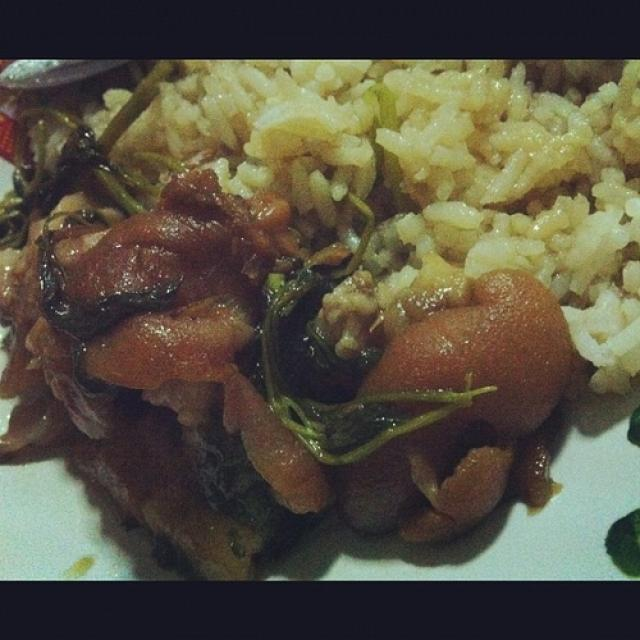猪肉菜式: (18, 69, 608, 597)
